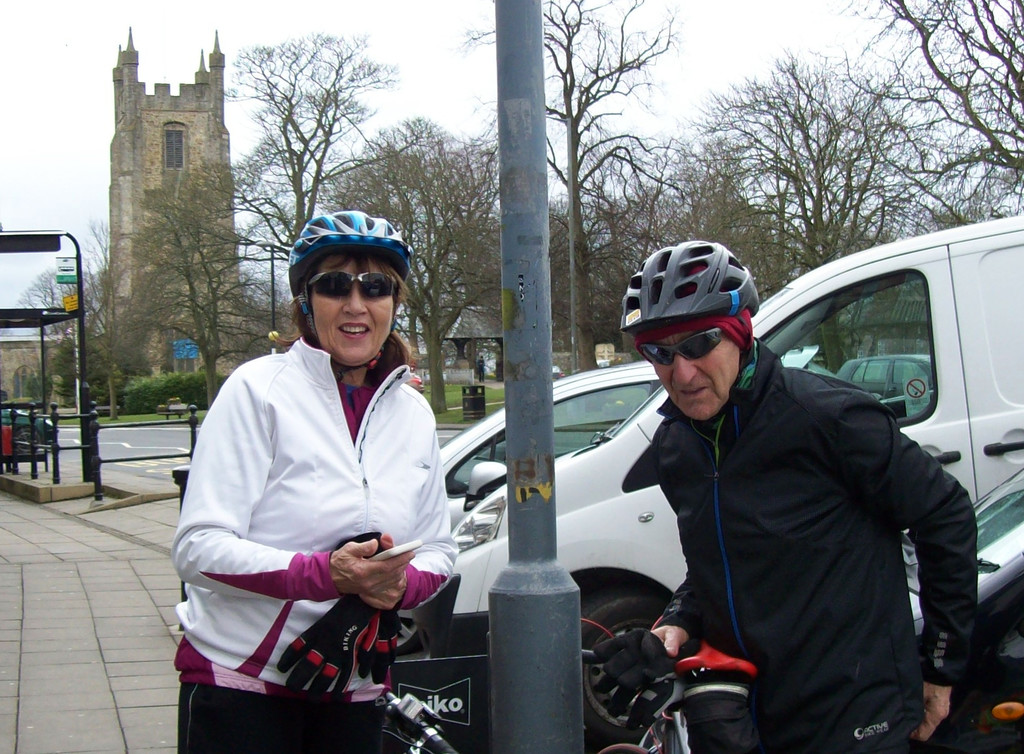Car: (439, 216, 1023, 688), (436, 350, 851, 525), (828, 350, 939, 408)
